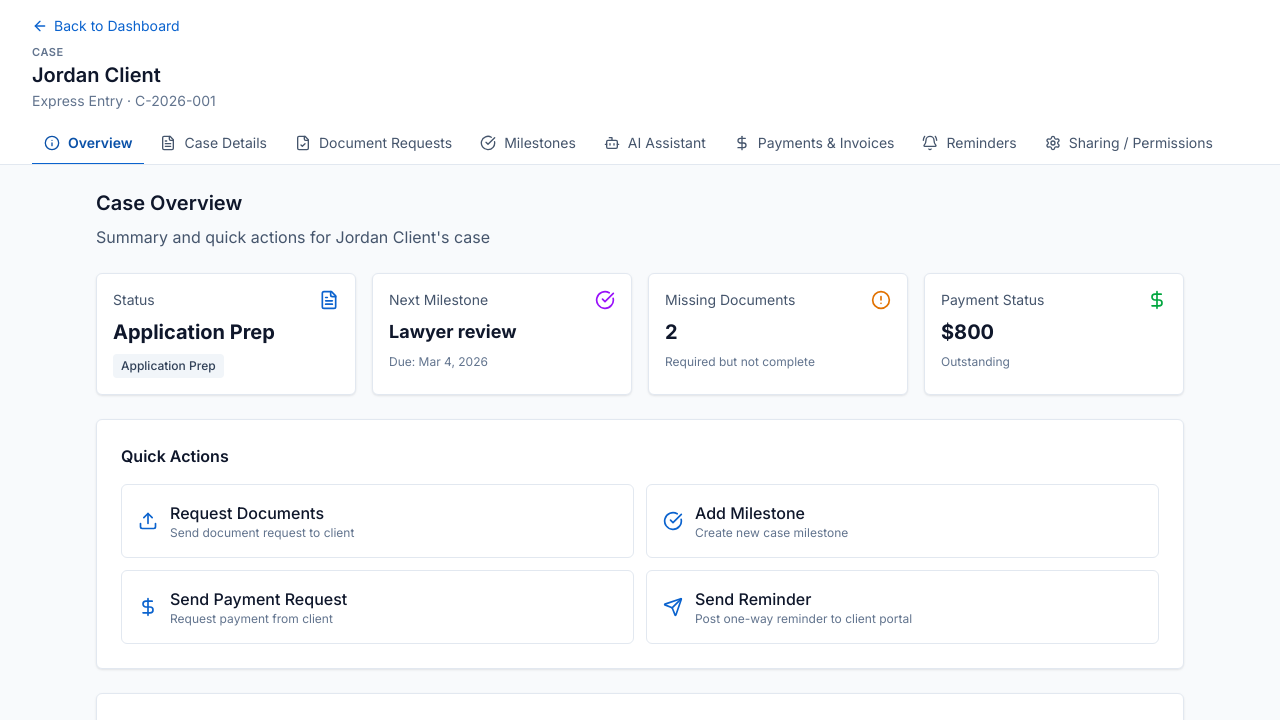
Scenario: CaseConfiguration documents › CT-CASECFG-11: sends one reminder listing the outstanding required documents
Expected: the heading "Case Overview" is shown, [96,190,242,214]
Click the button "Document Requests" at (374, 144), box [283,122,464,164]
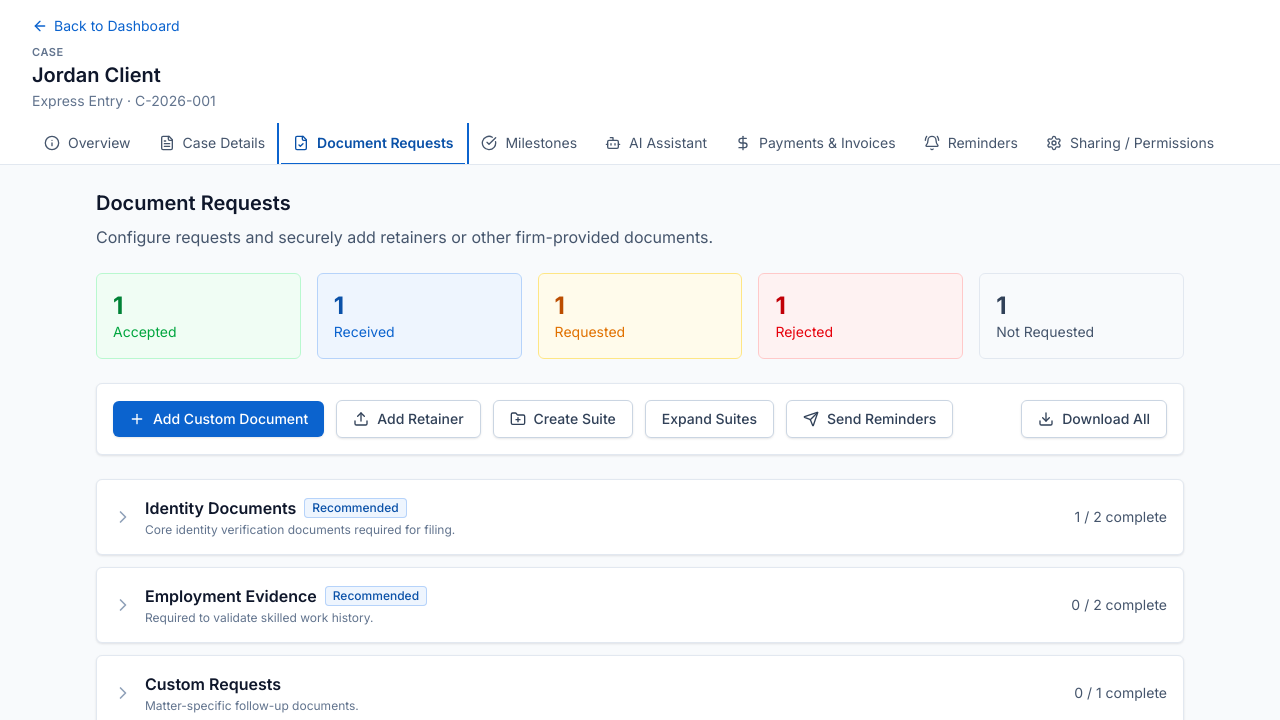
Click the button "Expand Suites" at (709, 418), box [645,400,774,438]
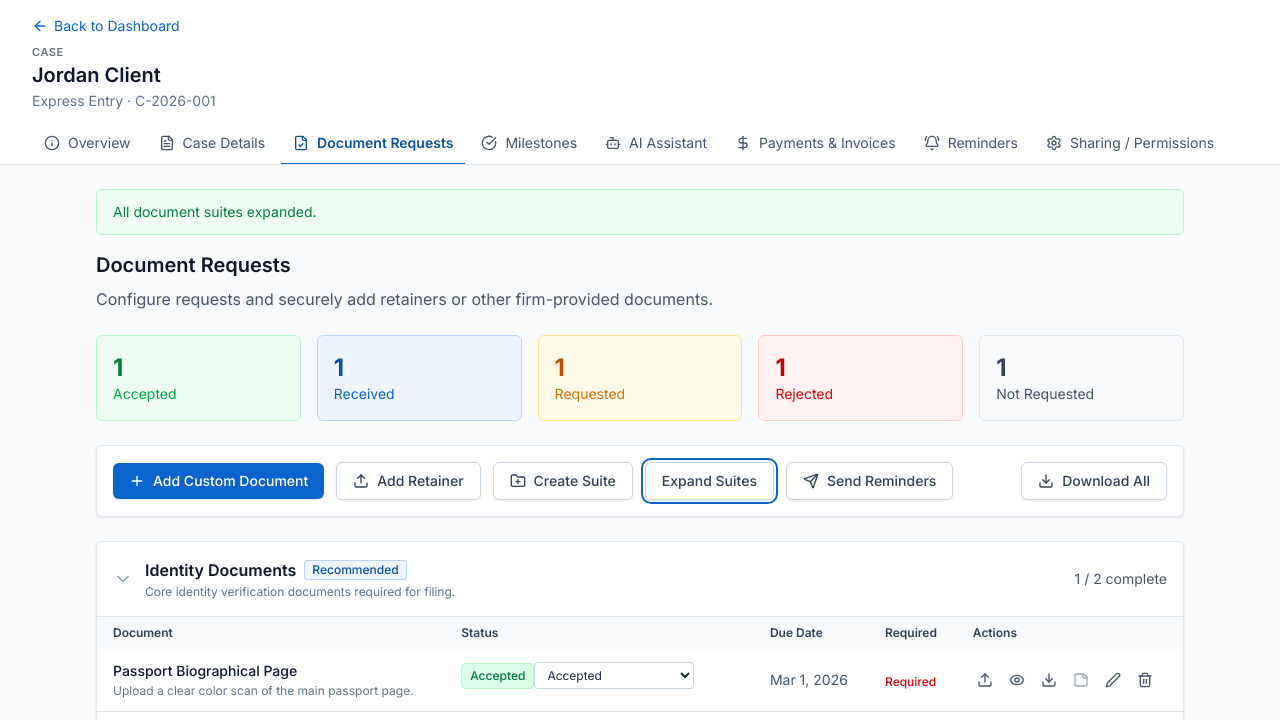
Click the button "Send Reminders" at (870, 480), box [786,462,953,500]
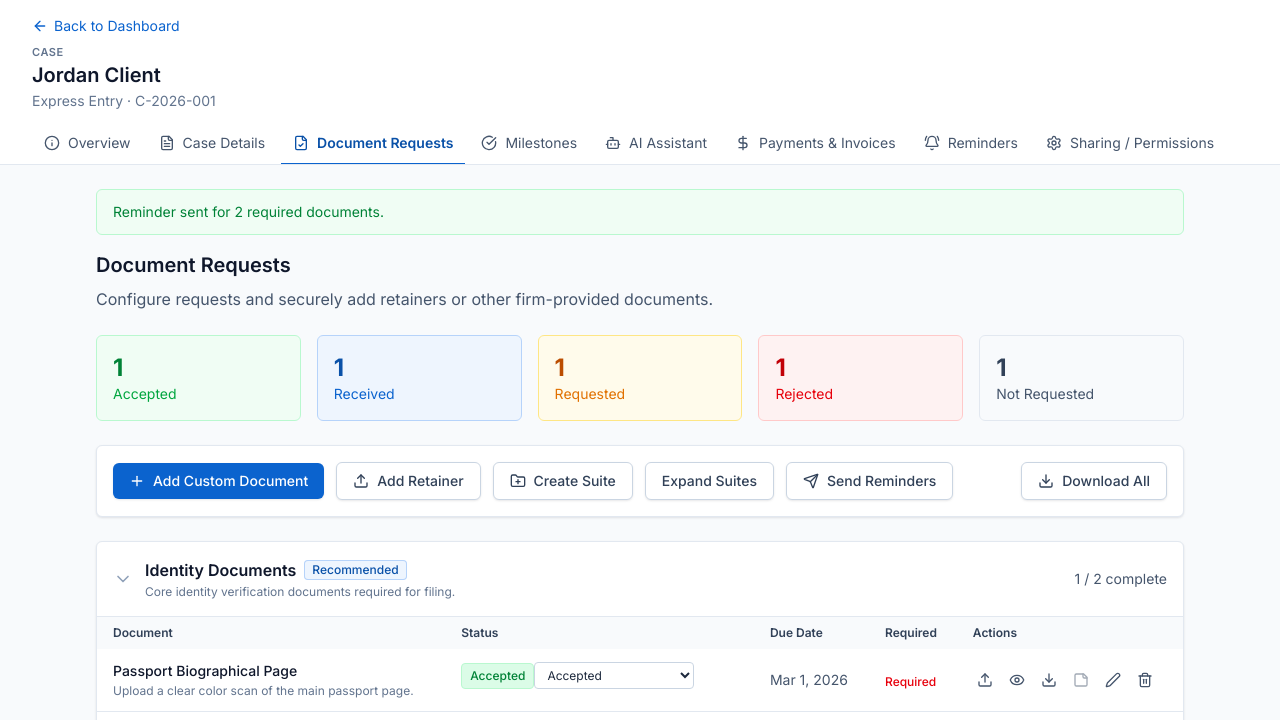
Expected: the text "Reminder sent for 2 required documents." is shown, [96,188,1184,234]
